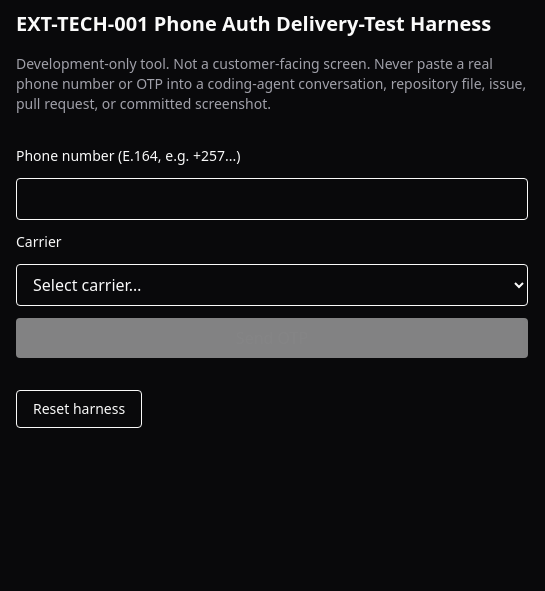
Scenario: PhoneAuthHarnessPage › real Firebase SMS trigger › refuses to send when the resolved config is the emulator demo project
Type "+25779123456" into the field labelled "Phone number (E.164, e.g. +257...)" at (272, 199), box [16,178,528,220]
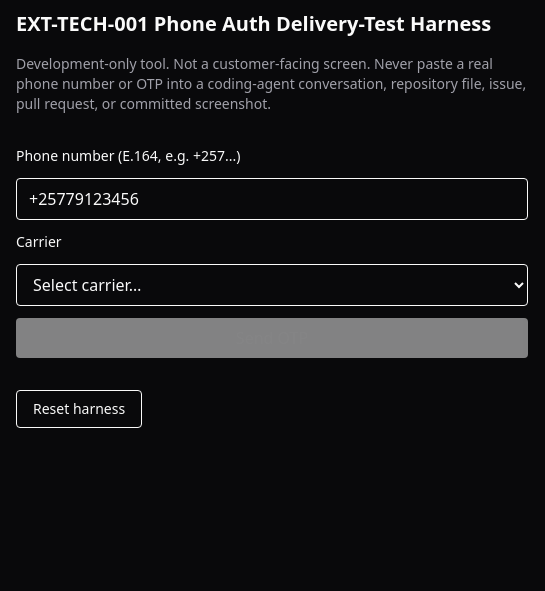
Select "Lumitel" in the dropdown labelled "Carrier" at (272, 285), box [16,264,528,306]
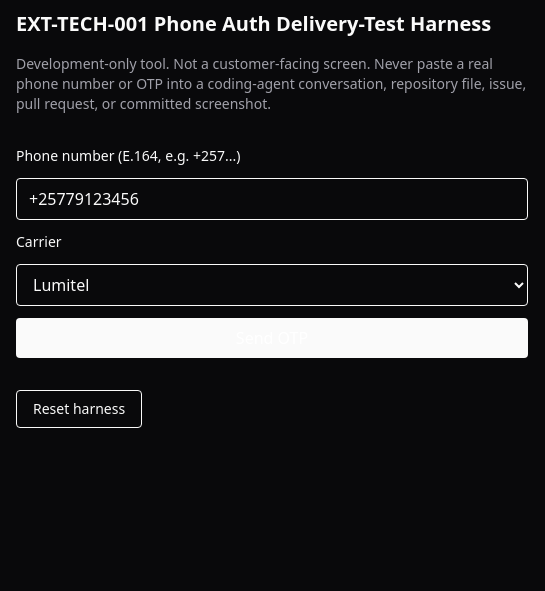
Click the button "Send OTP" at (272, 338), box [16,318,528,358]
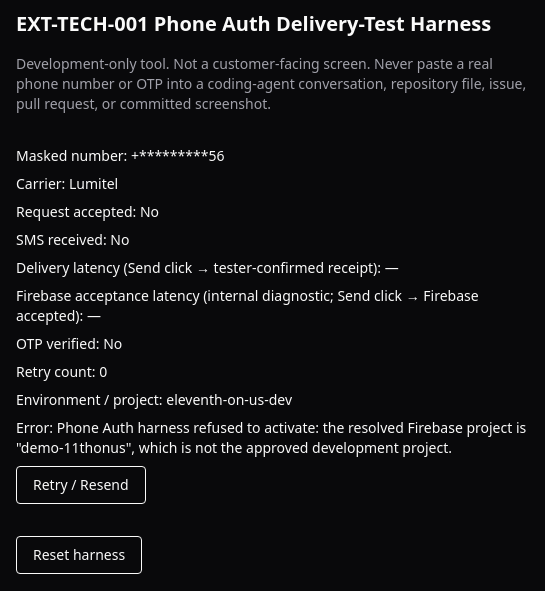
Now the text "not the approved development project" is shown, box [16,418,526,457]
